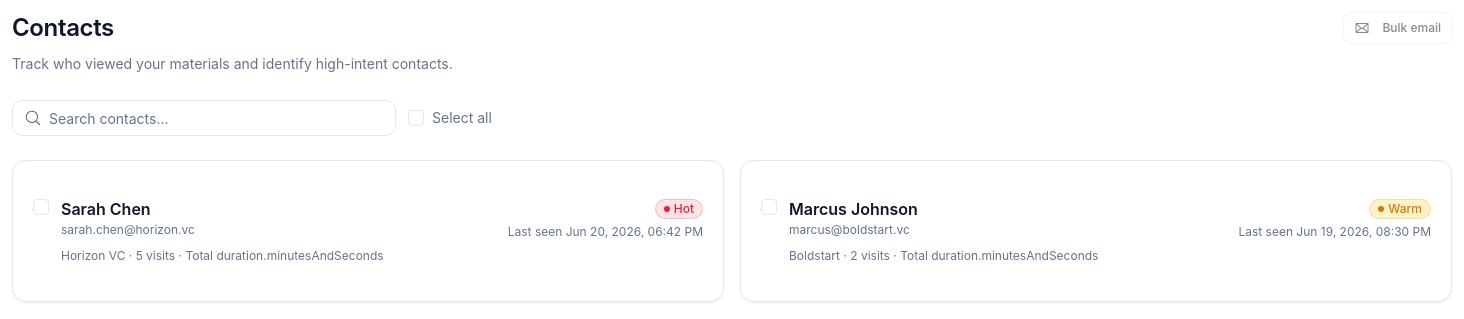
Test: ContactsPage multi-select bulk email › selects all filtered contacts
Check: the text "Sarah Chen" is shown, box [61,199,151,219]
Click the checkbox with test id "contacts-select-all".
click(416, 118)  # box [408,110,424,126]
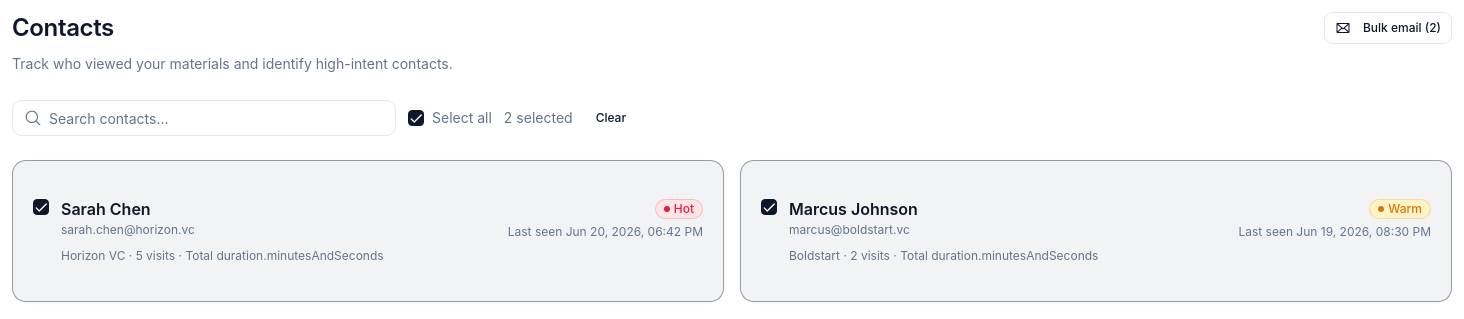
Check: the text with test id "contacts-selected-count" reads "2 selected", box [504,109,573,126]
Check: the button with test id "contacts-bulk-email" reads "Bulk email (2)", box [1324,12,1452,44]
